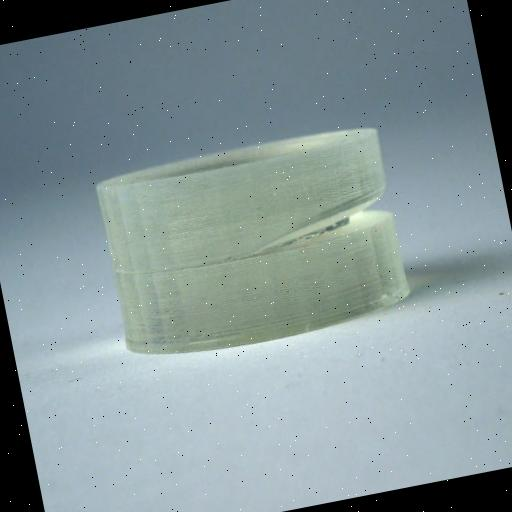cracks: (246, 170, 418, 268)
